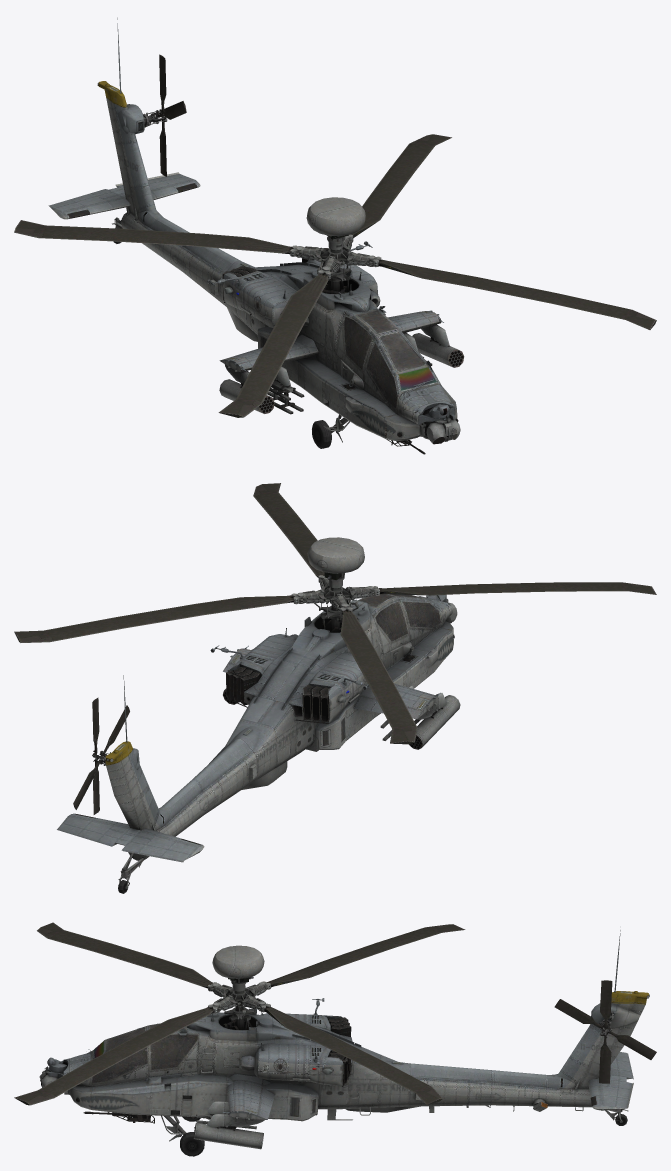
The picture shows the model from 3 angles, top to bottom: view 1: azimuth 30°, elevation 25°; view 2: azimuth 150°, elevation 25°; view 3: azimuth 270°, elevation 25°; orthographic projection. The views are drawn at different scales.
Visible parts, largest first — view 1: DrawCall_0054, DrawCall_0071, DrawCall_0056, DrawCall_0177, DrawCall_0059, DrawCall_0170, DrawCall_0064, DrawCall_0072, DrawCall_0067; view 2: DrawCall_0054, DrawCall_0071, DrawCall_0056, DrawCall_0059, DrawCall_0170, DrawCall_0066, DrawCall_0177; view 3: DrawCall_0054, DrawCall_0071, DrawCall_0056, DrawCall_0059, DrawCall_0177, DrawCall_0170, DrawCall_0064, DrawCall_0072.
Boxes of the visible parts, bbox=[...] form: DrawCall_0054: bbox=[98, 81, 457, 441]; DrawCall_0071: bbox=[14, 54, 656, 417]; DrawCall_0056: bbox=[97, 17, 460, 443]; DrawCall_0177: bbox=[366, 331, 436, 407]; DrawCall_0059: bbox=[48, 172, 200, 219]; DrawCall_0170: bbox=[344, 310, 396, 369]; DrawCall_0064: bbox=[412, 333, 464, 367]; DrawCall_0072: bbox=[112, 217, 353, 448]; DrawCall_0067: bbox=[267, 357, 432, 414]; DrawCall_0054: bbox=[105, 594, 453, 860]; DrawCall_0071: bbox=[14, 483, 656, 814]; DrawCall_0056: bbox=[104, 537, 457, 830]; DrawCall_0059: bbox=[57, 813, 204, 862]; DrawCall_0170: bbox=[360, 594, 407, 641]; DrawCall_0066: bbox=[409, 695, 460, 749]; DrawCall_0177: bbox=[390, 594, 440, 627]; DrawCall_0054: bbox=[63, 991, 648, 1127]; DrawCall_0071: bbox=[14, 922, 656, 1105]; DrawCall_0056: bbox=[39, 930, 649, 1120]; DrawCall_0059: bbox=[588, 1052, 633, 1110]; DrawCall_0177: bbox=[92, 1026, 147, 1082]; DrawCall_0170: bbox=[150, 1024, 197, 1069]; DrawCall_0064: bbox=[193, 1122, 263, 1149]; DrawCall_0072: bbox=[161, 1109, 628, 1156].
Size of the model in its own units: 11.21 by 5.82 by 15.95.
2 materials, 2 textured.
